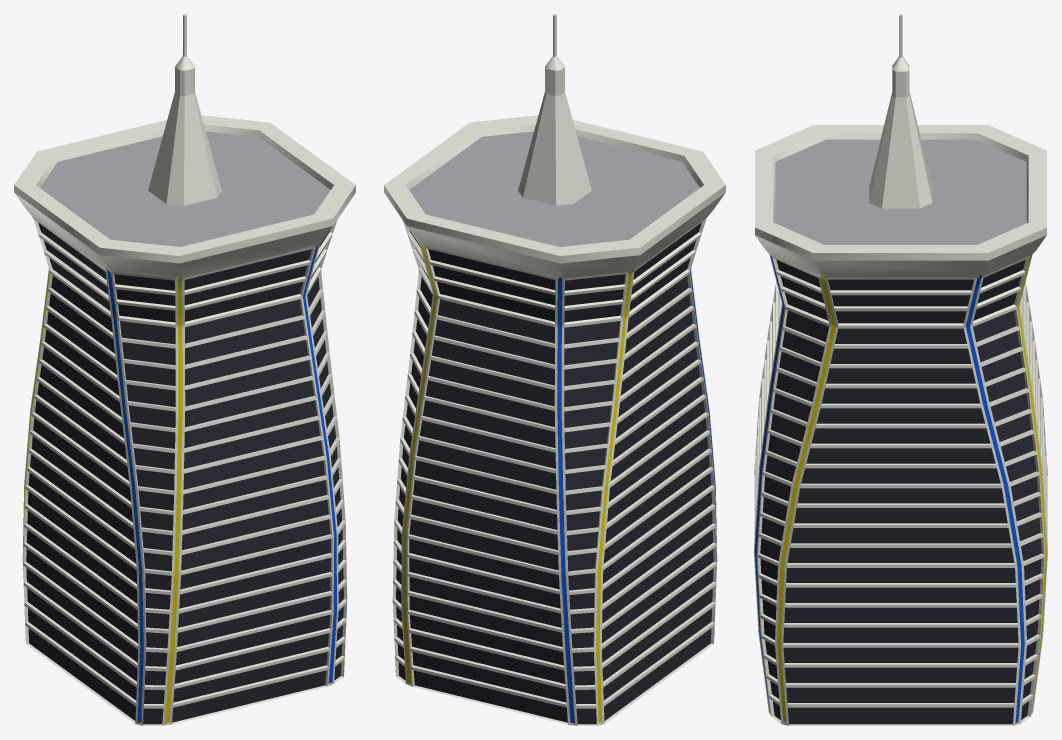
Rendered from KNKO.FBX.
3 renders of one model, left to right at view 1: azimuth 30°, elevation 25°; view 2: azimuth 150°, elevation 25°; view 3: azimuth 270°, elevation 25°, orthographic. The views are drawn at different scales.
Visible parts, largest first — view 1: KNKO; view 2: KNKO; view 3: KNKO.
Part boxes in pixels (x1,y1,x2,y2): KNKO: (14, 14, 355, 725); KNKO: (384, 14, 725, 725); KNKO: (754, 14, 1047, 725).
Bounding box in the file's own units: 172 × 413 × 167.
